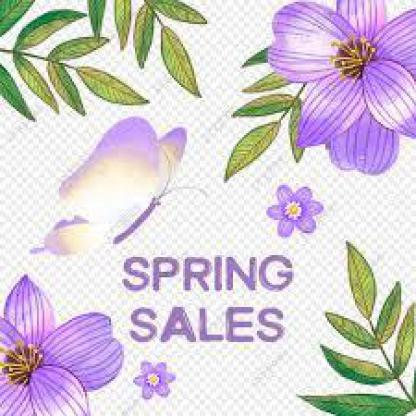Kupu-Kupu: (59, 123, 192, 267)
